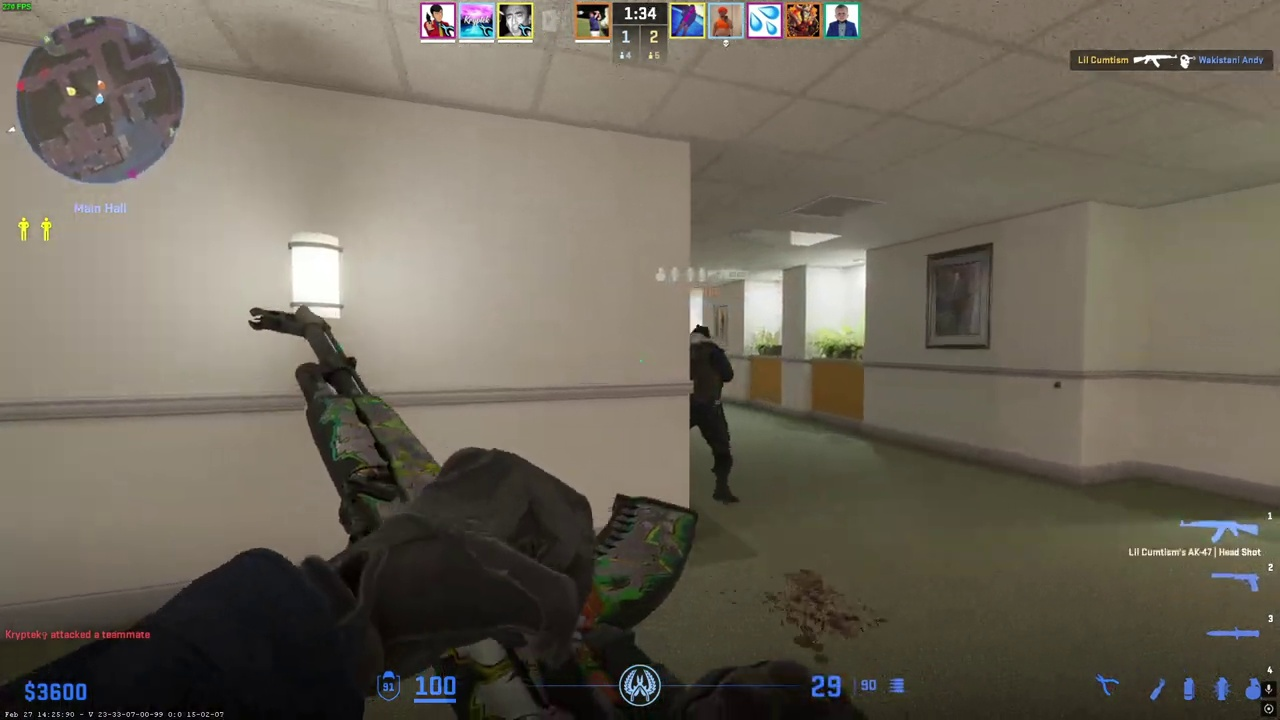CT: (686, 324, 741, 502)
